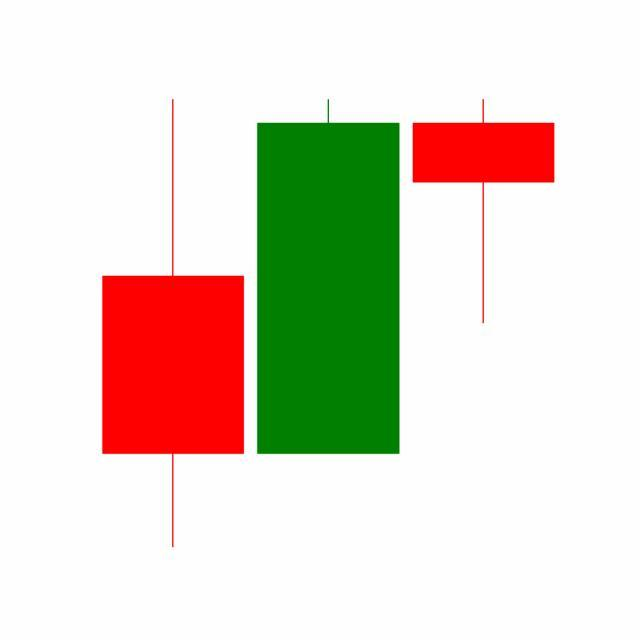Hanging Man: (406, 97, 562, 327)
